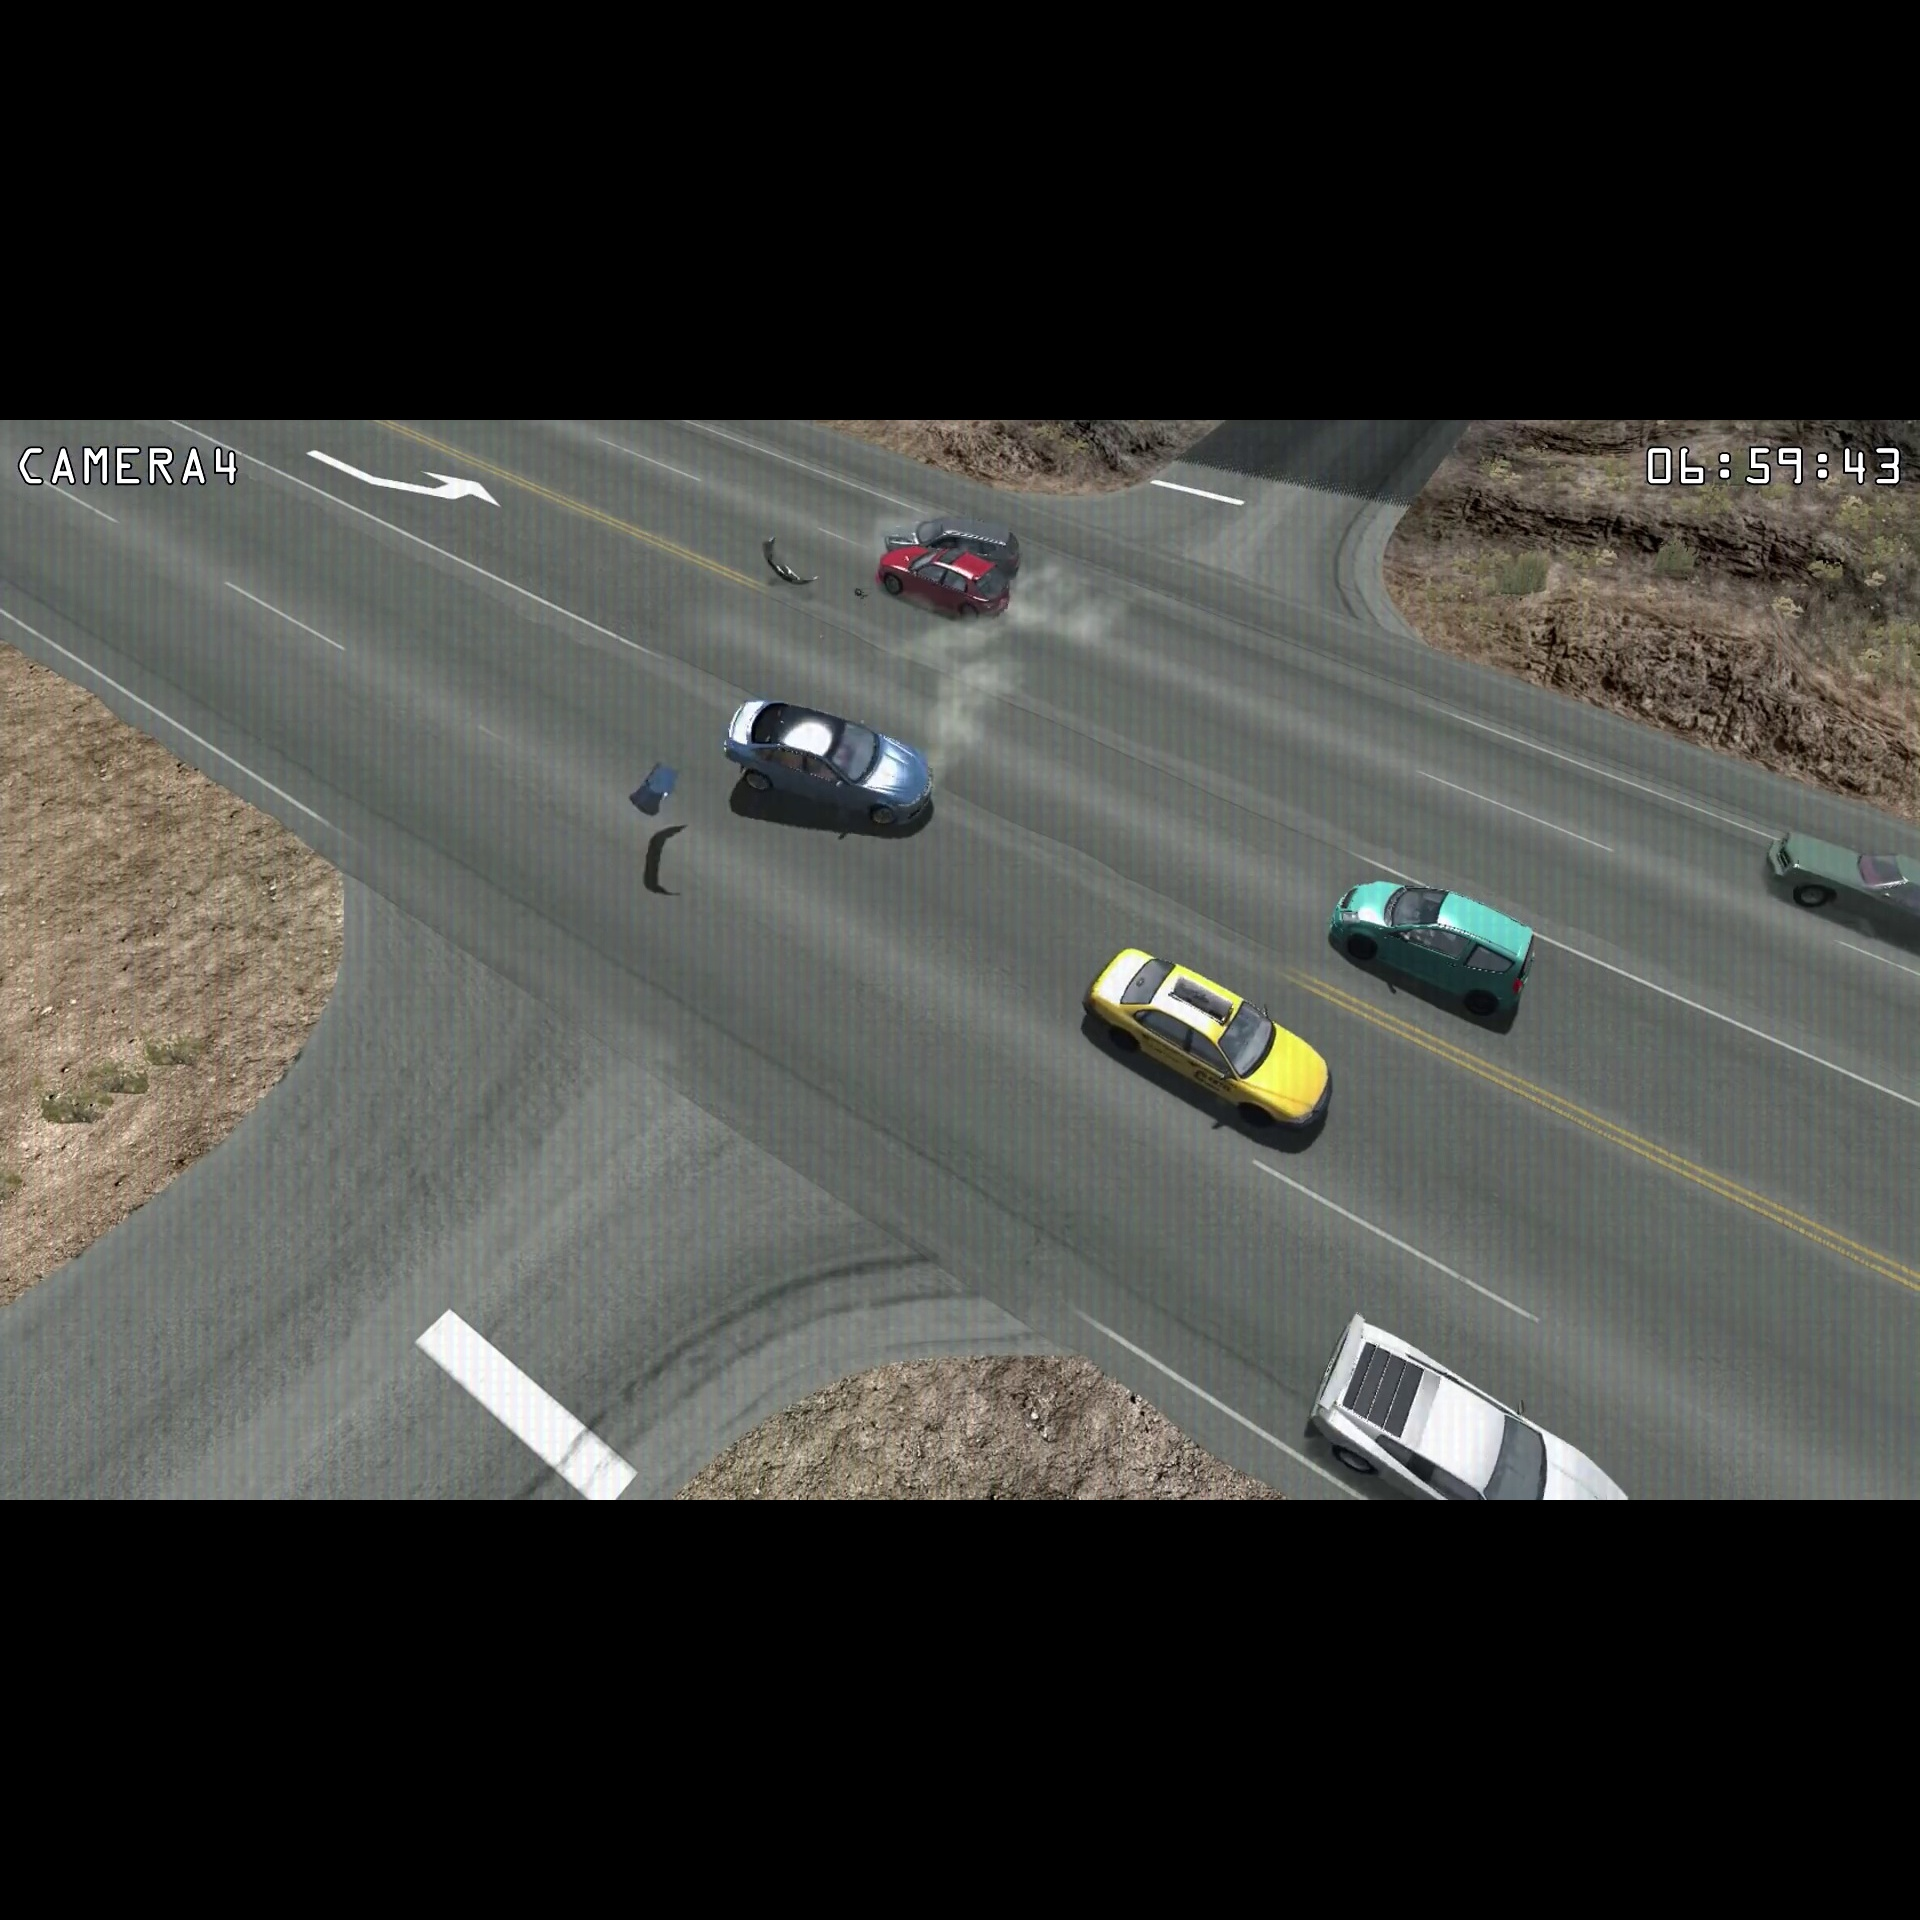vehicle: (1294, 1305, 1637, 1498), (1073, 941, 1336, 1143), (1319, 869, 1538, 1029), (716, 689, 948, 840), (1755, 825, 1918, 951), (872, 545, 1016, 624), (877, 506, 1029, 557)
